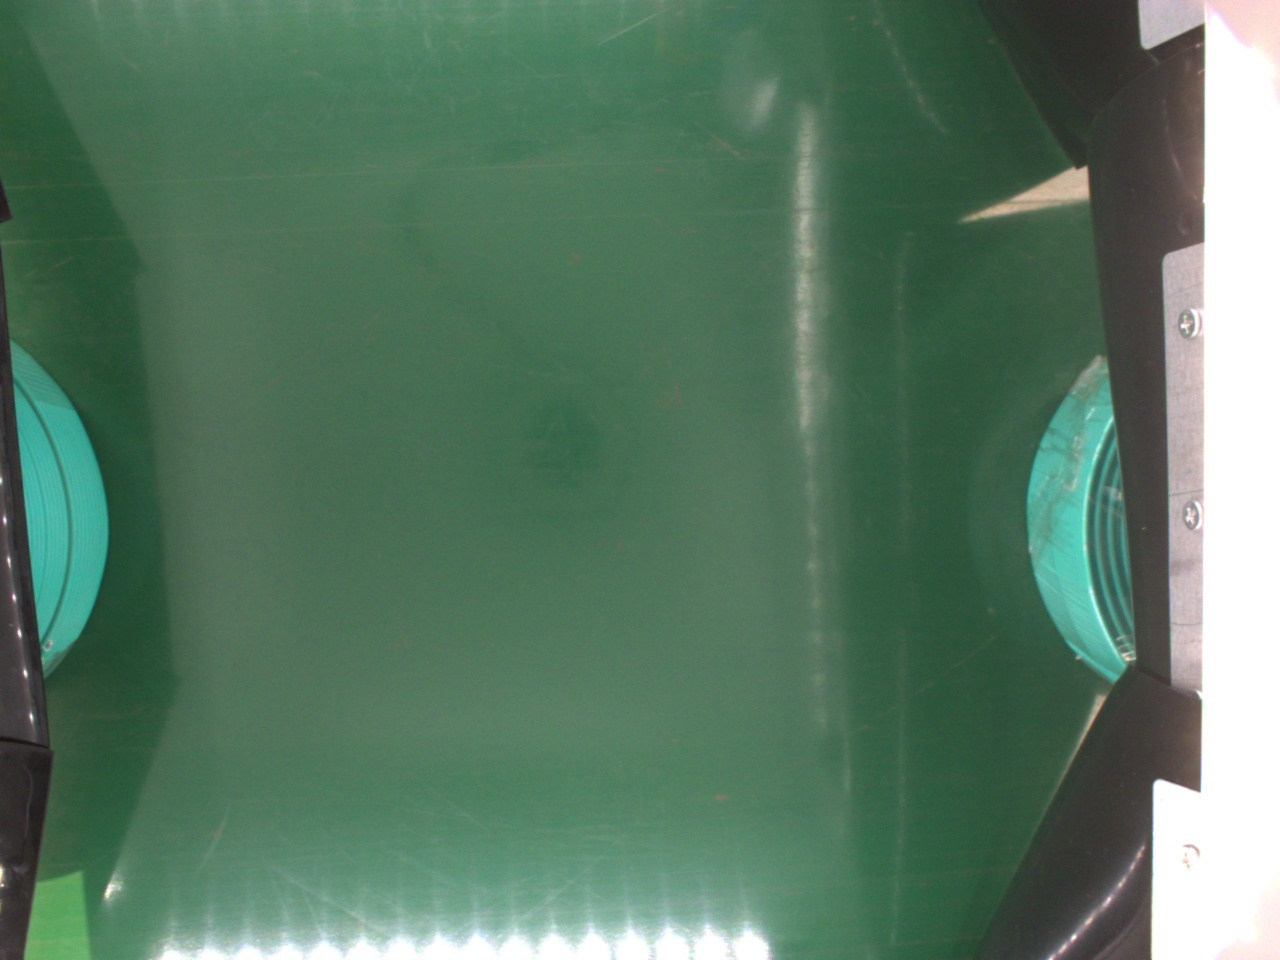green: (1023, 357, 1143, 678), (8, 338, 109, 667)
